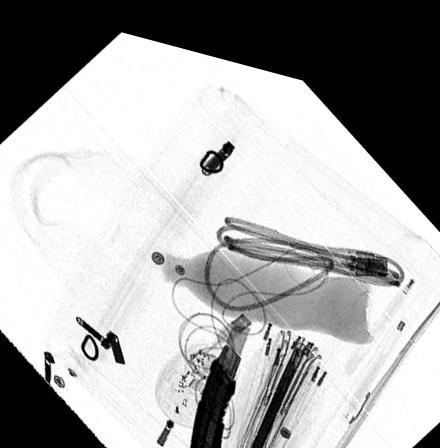Knife: (187, 307, 250, 448)
